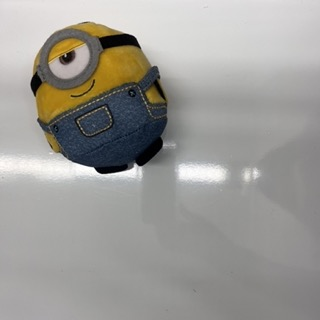minion: (30, 22, 168, 173)
